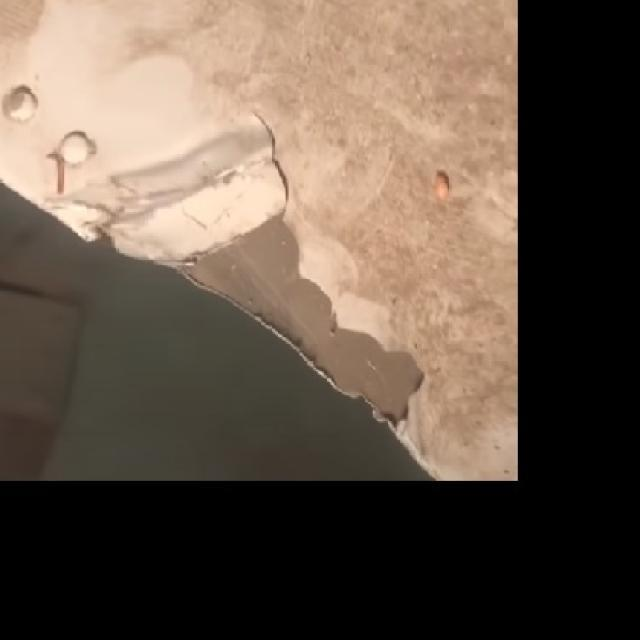crack: (263, 121, 290, 205)
dent: (169, 218, 425, 439), (55, 128, 286, 260), (37, 0, 191, 143), (3, 85, 39, 123), (59, 130, 96, 165)
